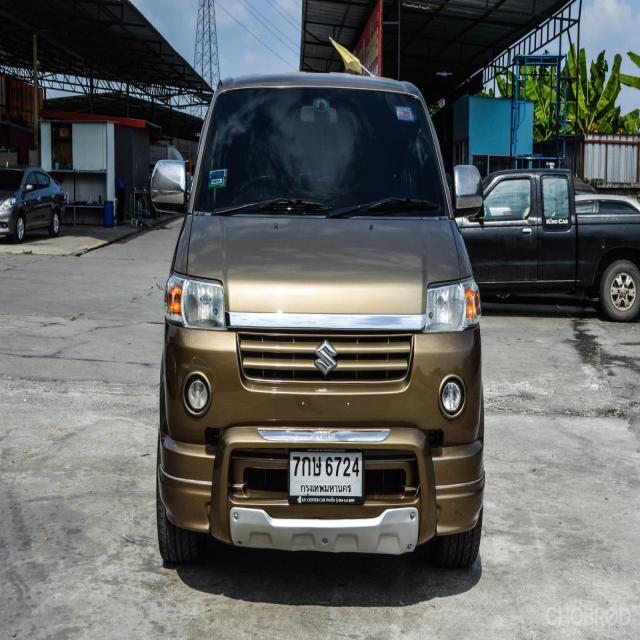license_plate: (287, 447, 364, 506)
